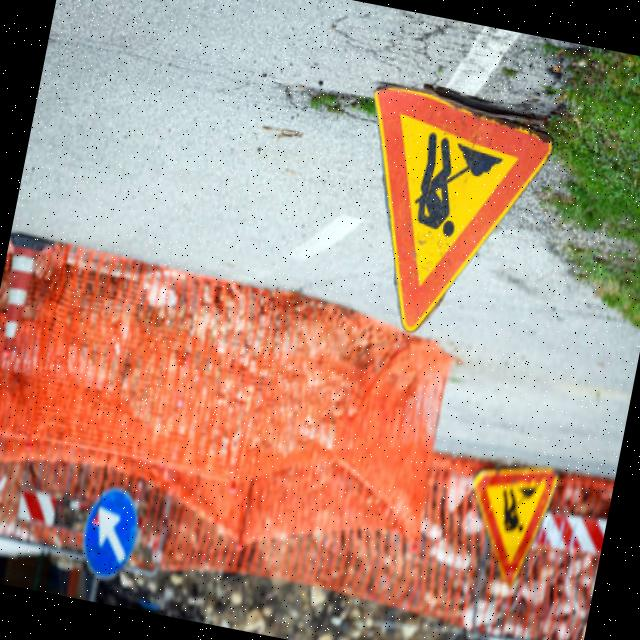road_work: (334, 82, 554, 348), (454, 452, 566, 590)
